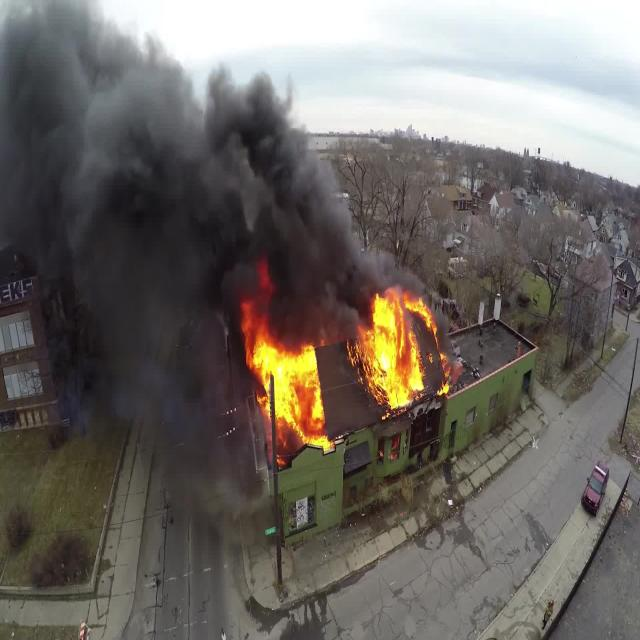fire: (251, 334, 338, 460), (372, 286, 447, 408)
smoke: (10, 15, 222, 456), (230, 78, 363, 305)
